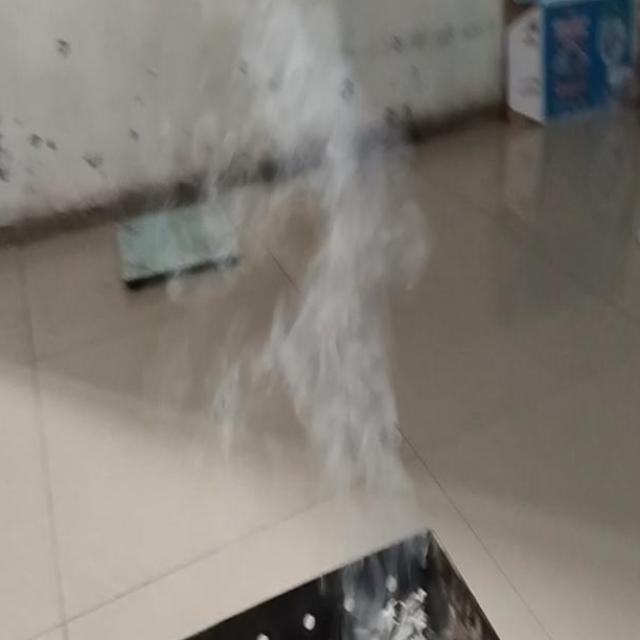fire: (238, 0, 428, 519)
